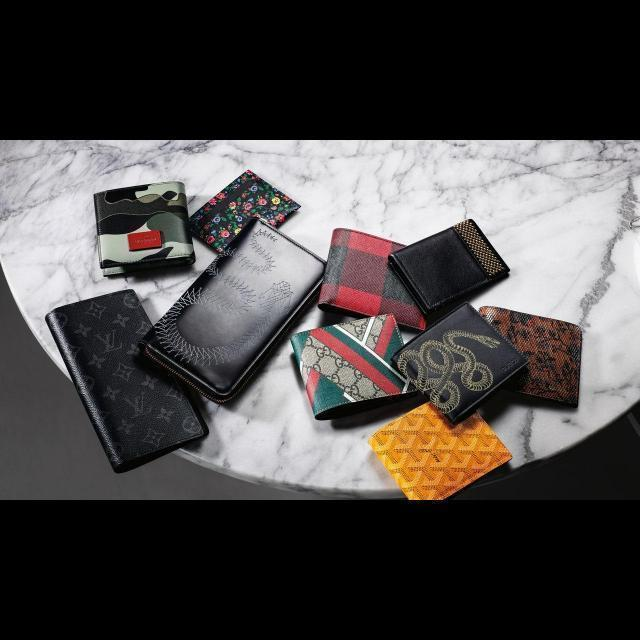wallet: (142, 216, 332, 404), (43, 286, 207, 474), (389, 304, 528, 426), (391, 216, 512, 314), (92, 180, 194, 276)
